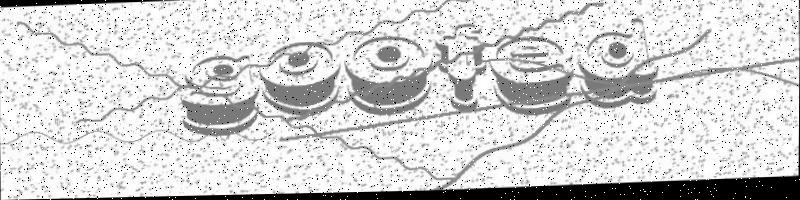d: (574, 12, 664, 114)
e: (487, 32, 575, 122)
f: (432, 16, 488, 117)
g: (168, 44, 268, 141)
o: (341, 30, 434, 116), (257, 43, 344, 122)
